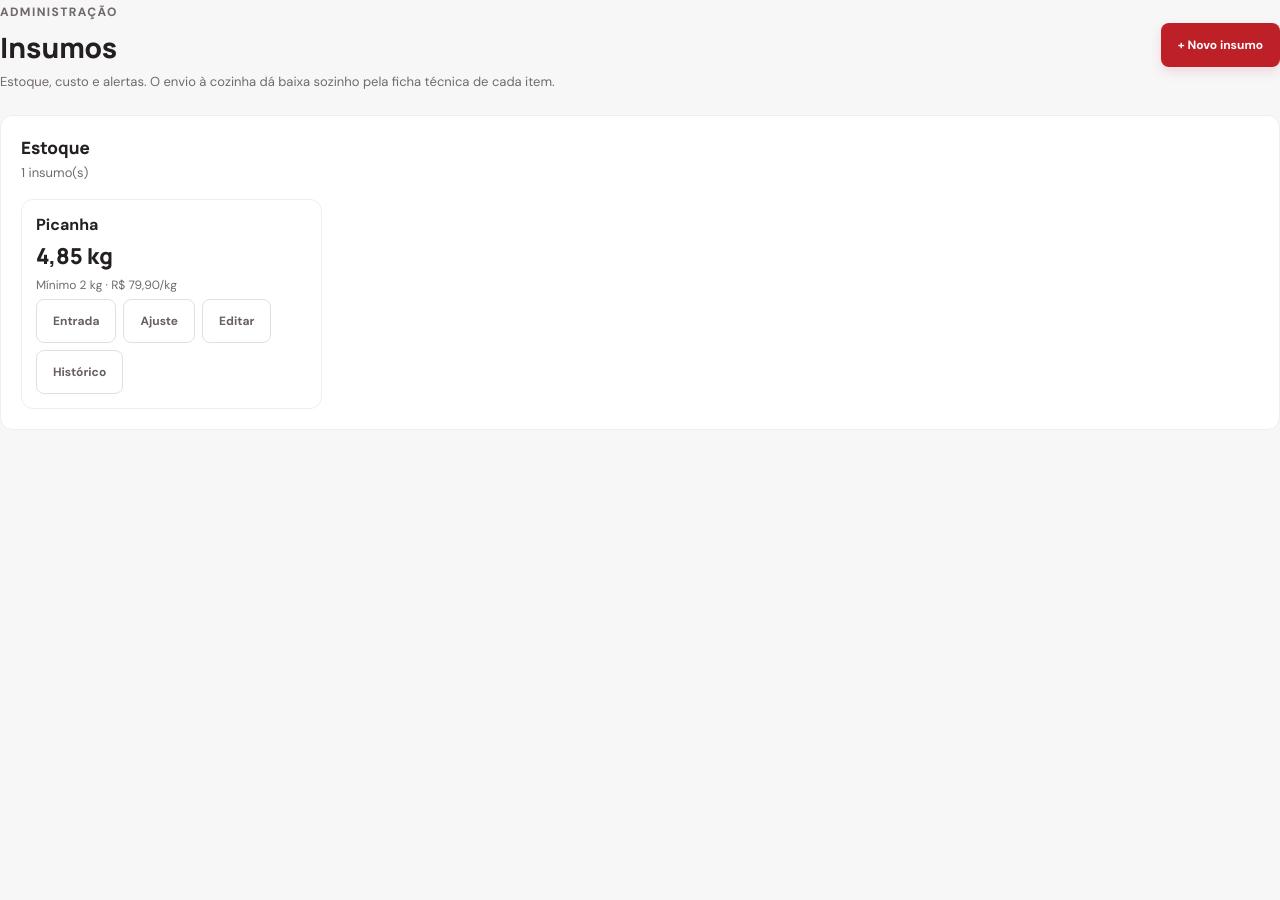
Histórico do insumo por período, turno e CSV (spec 018) › erro da exportação aparece no modal
Click the button "Histórico".
click(80, 372)  # box x1=36 y1=350 x2=123 y2=394
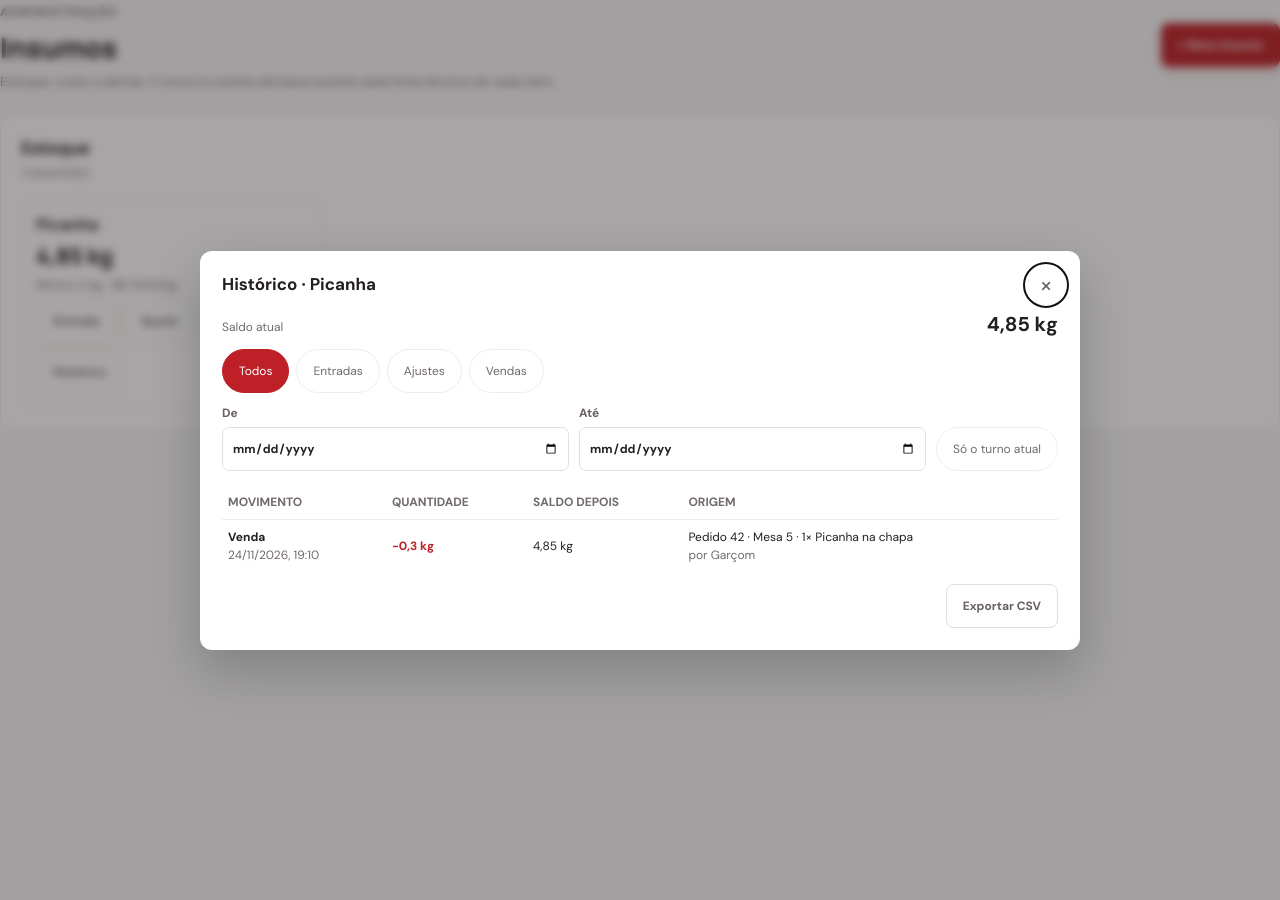
Click the button "Exportar CSV".
click(1002, 606)  # box x1=946 y1=584 x2=1058 y2=628
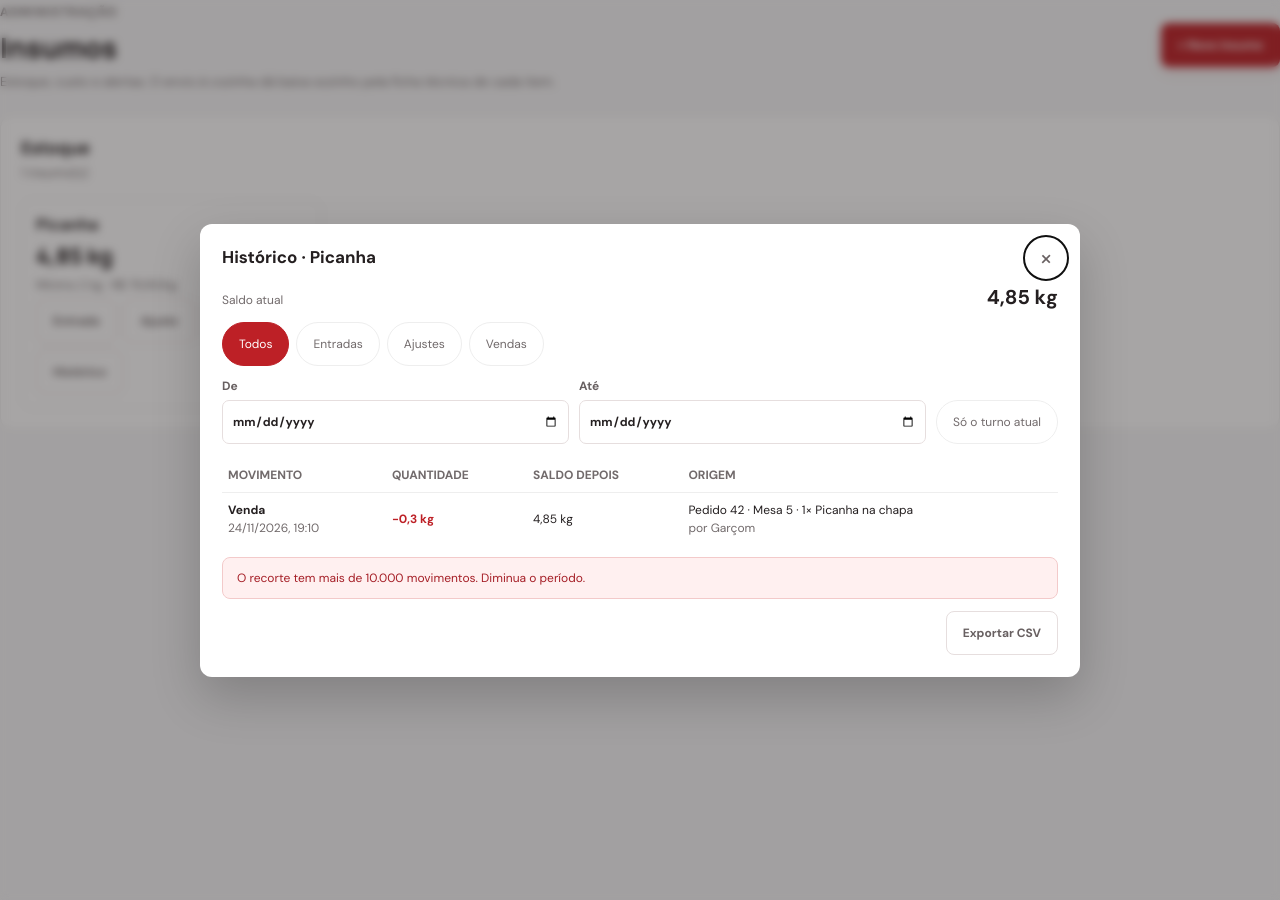
Check: the number of rows is 2, box x1=222 y1=458 x2=1058 y2=492; x1=222 y1=492 x2=1058 y2=544
Check: the text "O recorte tem mais de 10.000 movimentos. Diminua o período." is shown, box x1=222 y1=556 x2=1058 y2=598
